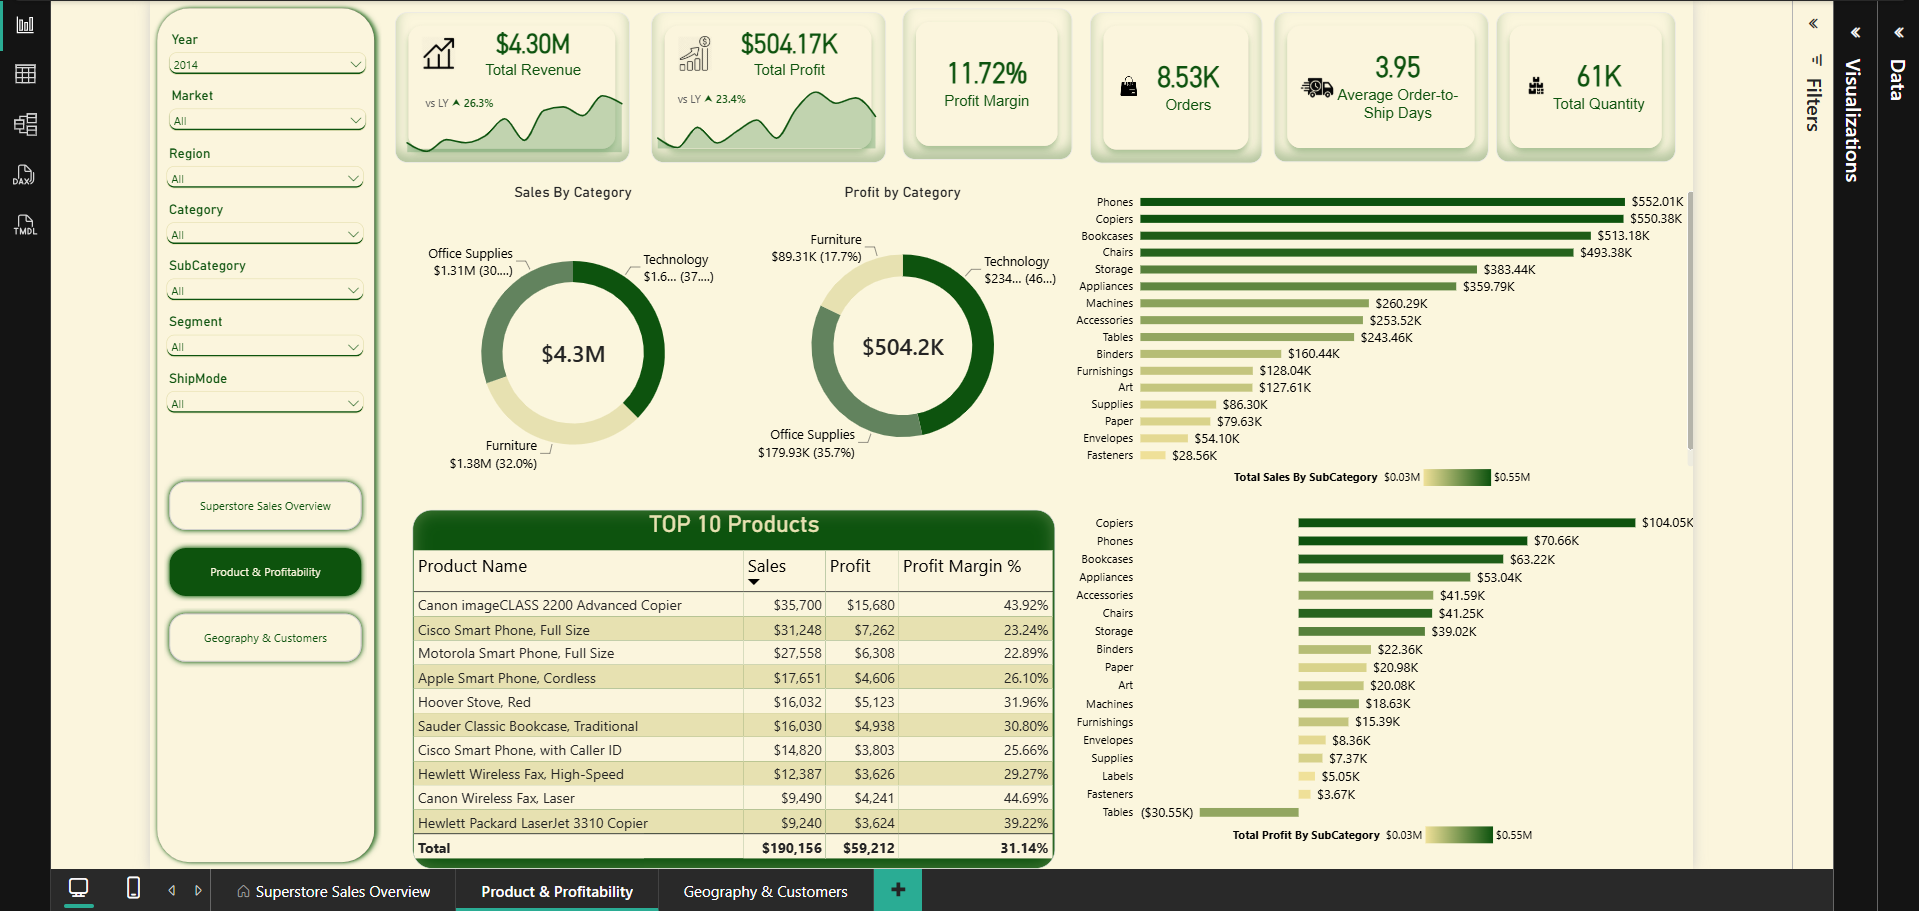

This screenshot's page, from the dashboard's own definition file:
{"tool":"powerbi","page":{"name":"Product & Profitability","canvas":[1920,1080],"ordinal":1},"visuals":[{"type":"shape","box":[0,0,288,1079.9],"z":0},{"type":"slicer","fields":{"Values":["dw DimDate.Year"]},"box":[18,37.8,255.6,70.2],"z":1000},{"type":"slicer","fields":{"Values":["dw DimGeography.Market"]},"box":[18,108,255.6,70.2],"z":2000},{"type":"slicer","fields":{"Values":["dw DimGeography.Region"]},"box":[16.2,178.2,255.6,70.2],"z":3000},{"type":"slicer","fields":{"Values":["dw DimProduct.Category"]},"box":[16.2,248.4,255.6,70.2],"z":4000},{"type":"slicer","fields":{"Values":["dw DimProduct.SubCategory"]},"box":[16.2,318.6,255.6,70.2],"z":5000},{"type":"slicer","fields":{"Values":["dw DimCustomer.Segment"]},"box":[16.2,388.8,255.6,70.2],"z":6000},{"type":"slicer","fields":{"Values":["dw DimShipping.ShipMode"]},"box":[16.2,458.9,255.6,66.6],"z":7000},{"type":"pageNavigator","box":[17,590.4,253.5,238.2],"z":8000},{"type":"cardVisual","fields":{"Data":["dw FactSales.Total Sales"]},"box":[304.4,14.4,291.8,187.3],"z":9000},{"type":"cardVisual","fields":{"Data":["dw FactSales.Total Profit"]},"box":[623.2,14.4,291.8,187.3],"z":10000},{"type":"cardVisual","fields":{"Data":["dw FactSales.Profit Margin %"]},"box":[943.8,14.4,291.8,187.3],"z":11000},{"type":"cardVisual","fields":{"Data":["dw FactSales.Orders"]},"box":[1266.2,14.4,291.8,187.3],"z":12000},{"type":"cardVisual","fields":{"Data":["dw FactSales.Total Quantity"]},"box":[1594,14.4,291.8,187.3],"z":13000},{"type":"lineChart","fields":{"Y":["dw FactSales.Total Sales"],"Category":["dw DimDate.Month"]},"box":[270.2,108.1,326,79.2],"z":14000},{"type":"lineChart","fields":{"Y":["dw FactSales.Total Profit"],"Category":["dw DimDate.Month"]},"box":[596.5,104.7,315.2,79.2],"z":15000},{"type":"donutChart","title":"Sales By Category","fields":{"Category":["dw DimProduct.Category"],"Y":["dw FactSales.Total Sales"]},"box":[287.8,198.8,734.3,259.9],"z":16000},{"type":"donutChart","fields":{"Category":["dw DimProduct.Category"],"Y":["dw FactSales.Total Profit"]},"box":[1088.9,197.4,775.8,275.6],"z":17000},{"type":"barChart","fields":{"Category":["dw DimProduct.SubCategory"],"Y":["dw FactSales.Total Sales"]},"box":[287.8,458.7,774.4,251.2],"z":18000},{"type":"barChart","fields":{"Category":["dw DimProduct.SubCategory"],"Y":["dw FactSales.Total Profit"]},"box":[1089.7,459.3,774.5,246.8],"z":19000},{"type":"tableEx","title":"TOP 10 Products","fields":{"Values":["dw DimProduct.ProductName","Sum(dw FactSales.Sales)","Sum(dw FactSales.Profit)","dw FactSales.Profit Margin %"]},"box":[304.6,710.1,1580.8,370.5],"z":20000}]}

Visuals, with their boxes on the page's 1920x1080 design canvas (x1, y1, x2, y2). These are canvas units, not pixel positions in the 1919x911 screenshot, which may show the page scaled, cropped or inside an application window:
shape: left=0, top=0, right=288, bottom=1080
slicer - dw DimDate.Year: left=18, top=38, right=274, bottom=108
slicer - dw DimGeography.Market: left=18, top=108, right=274, bottom=178
slicer - dw DimGeography.Region: left=16, top=178, right=272, bottom=248
slicer - dw DimProduct.Category: left=16, top=248, right=272, bottom=319
slicer - dw DimProduct.SubCategory: left=16, top=319, right=272, bottom=389
slicer - dw DimCustomer.Segment: left=16, top=389, right=272, bottom=459
slicer - dw DimShipping.ShipMode: left=16, top=459, right=272, bottom=526
pageNavigator: left=17, top=590, right=270, bottom=829
cardVisual - dw FactSales.Total Sales: left=304, top=14, right=596, bottom=202
cardVisual - dw FactSales.Total Profit: left=623, top=14, right=915, bottom=202
cardVisual - dw FactSales.Profit Margin %: left=944, top=14, right=1236, bottom=202
cardVisual - dw FactSales.Orders: left=1266, top=14, right=1558, bottom=202
cardVisual - dw FactSales.Total Quantity: left=1594, top=14, right=1886, bottom=202
lineChart - dw FactSales.Total Sales x dw DimDate.Month: left=270, top=108, right=596, bottom=187
lineChart - dw FactSales.Total Profit x dw DimDate.Month: left=596, top=105, right=912, bottom=184
"Sales By Category" donutChart: left=288, top=199, right=1022, bottom=459
donutChart - dw DimProduct.Category x dw FactSales.Total Profit: left=1089, top=197, right=1865, bottom=473
barChart - dw DimProduct.SubCategory x dw FactSales.Total Sales: left=288, top=459, right=1062, bottom=710
barChart - dw DimProduct.SubCategory x dw FactSales.Total Profit: left=1090, top=459, right=1864, bottom=706
"TOP 10 Products" tableEx: left=305, top=710, right=1885, bottom=1081
